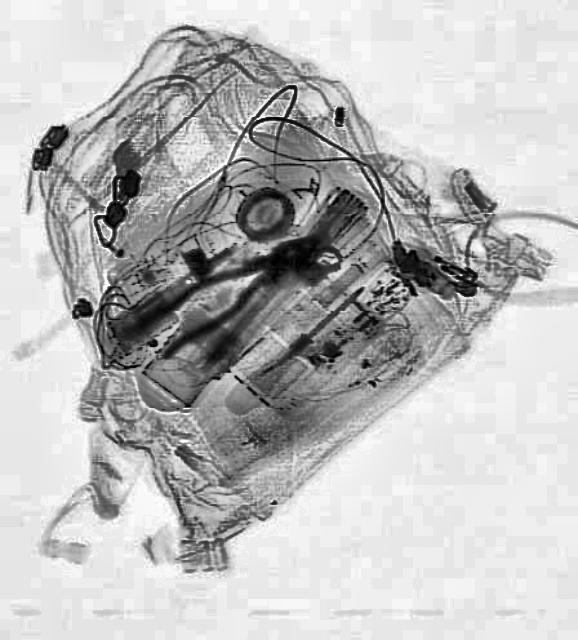Pliers: (128, 216, 330, 364)
